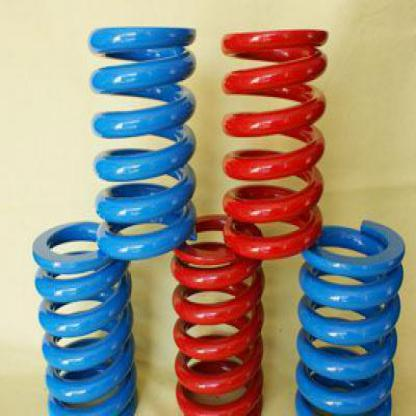FOD: (84, 20, 202, 268), (216, 20, 333, 262), (290, 218, 409, 414), (29, 216, 142, 414)
